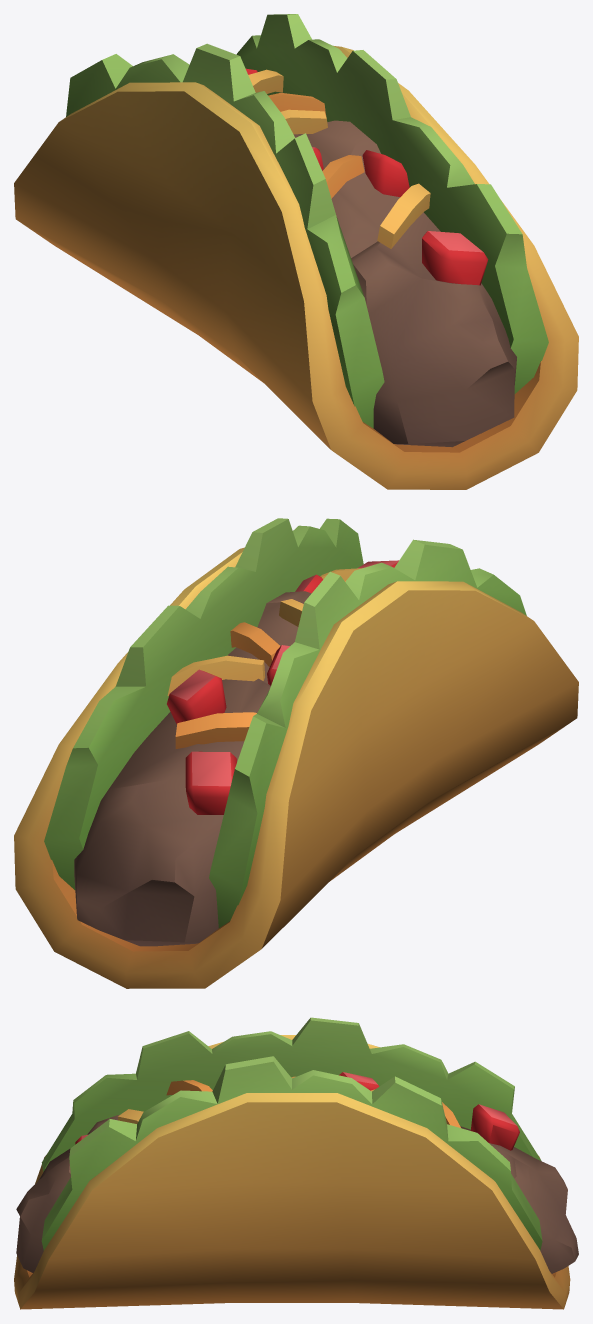
The model's file is taco.glb.
3 renders of one model, top to bottom at view 1: azimuth 30°, elevation 25°; view 2: azimuth 150°, elevation 25°; view 3: azimuth 270°, elevation 25°, orthographic. The views are drawn at different scales.
Visible parts, largest first — view 1: taco; view 2: taco; view 3: taco.
Part boxes in pixels (bbox=[...]): taco: bbox=[14, 14, 578, 489]; taco: bbox=[14, 518, 578, 988]; taco: bbox=[14, 1017, 578, 1309].
Bounding box in the file's own units: 0.4535 × 0.5075 × 1.02.
Materials: 1 (1 with a texture image).
